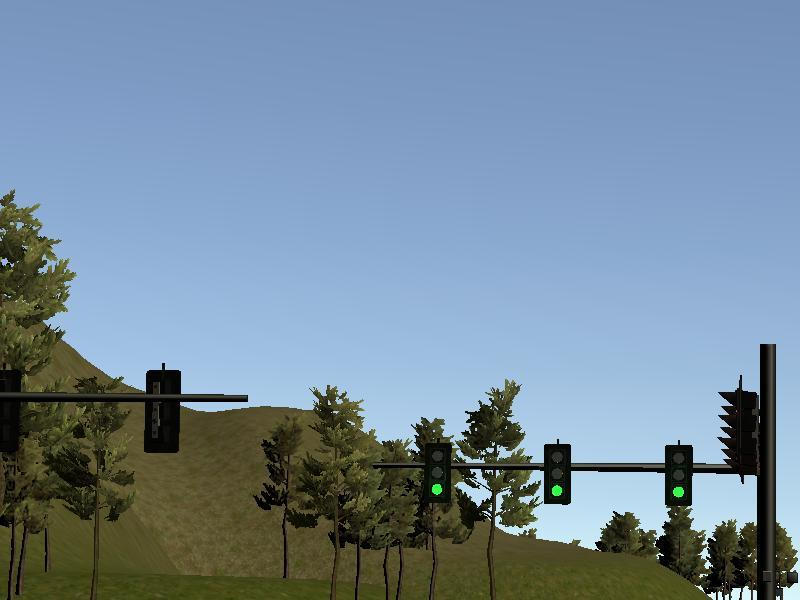Green: (664, 448, 693, 505), (426, 442, 451, 502), (545, 445, 569, 503)
